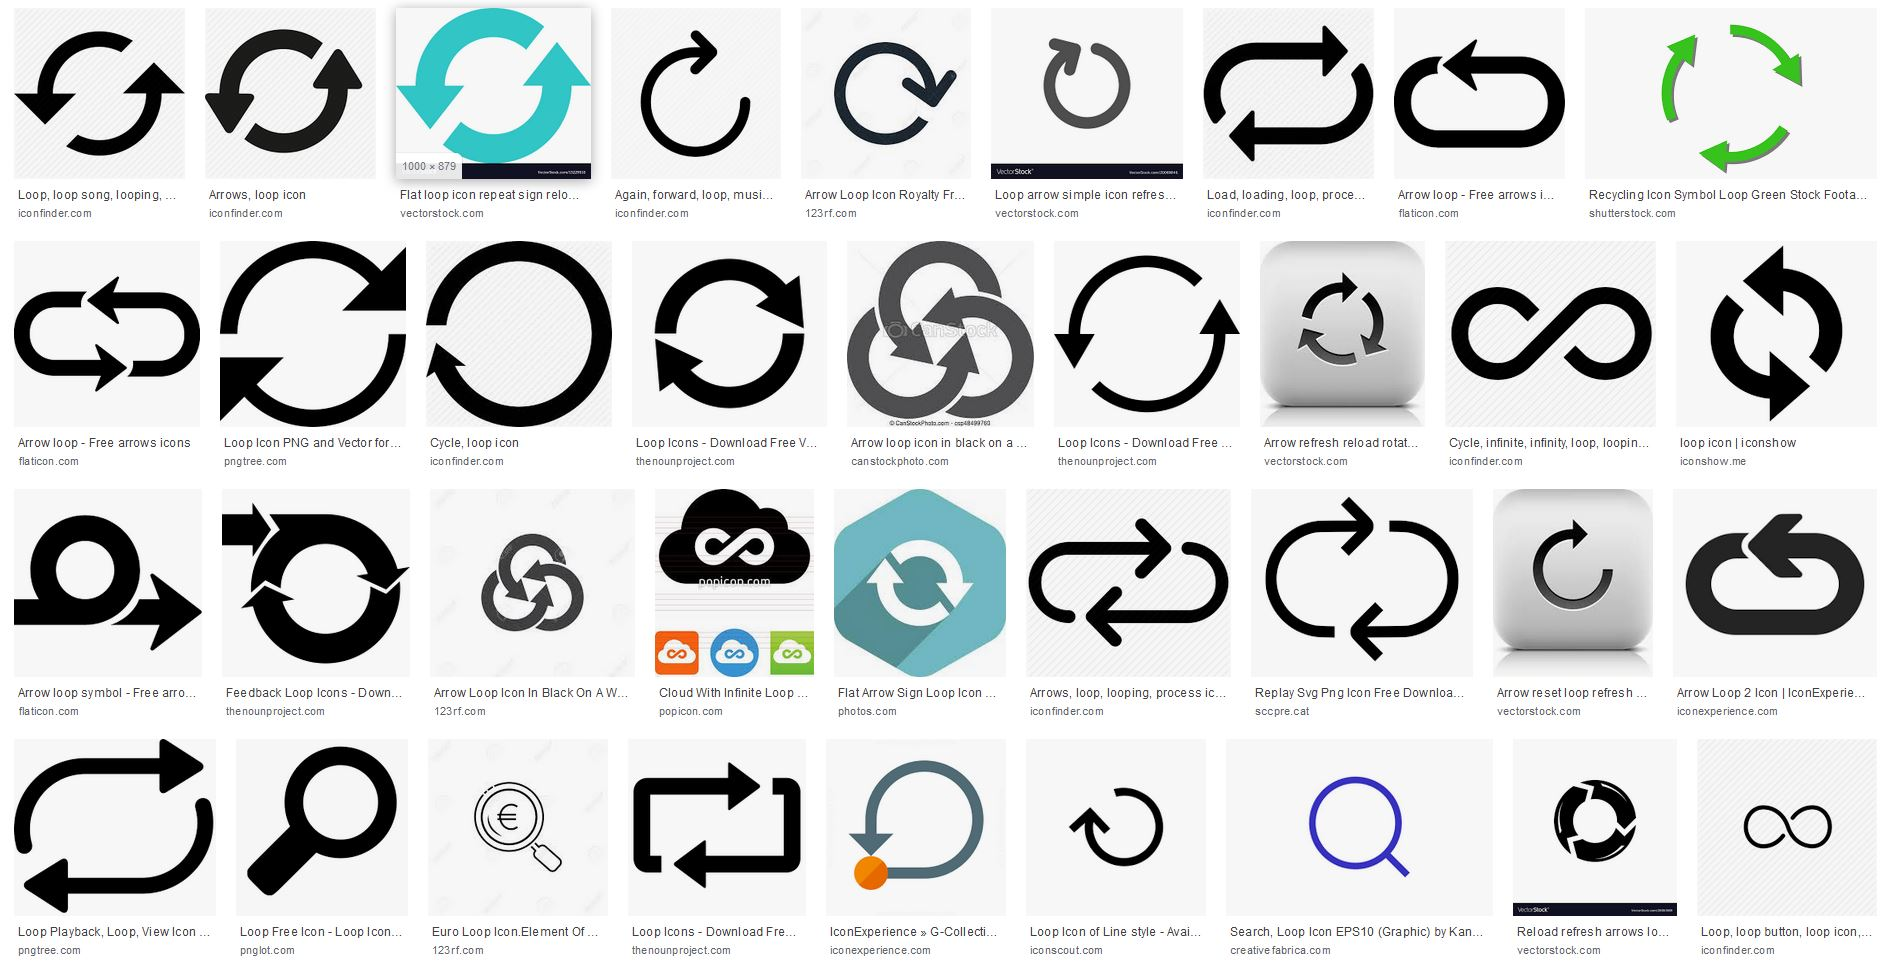loop: (214, 238, 411, 427), (10, 736, 216, 914), (1261, 495, 1466, 669), (1053, 242, 1241, 425), (399, 6, 590, 163), (1026, 516, 1232, 658), (646, 252, 812, 411), (1653, 12, 1814, 173), (1705, 243, 1851, 420), (625, 754, 804, 897), (1199, 22, 1377, 163), (10, 269, 204, 397), (14, 26, 184, 158), (204, 25, 364, 154), (1288, 264, 1400, 381), (868, 534, 976, 637)
